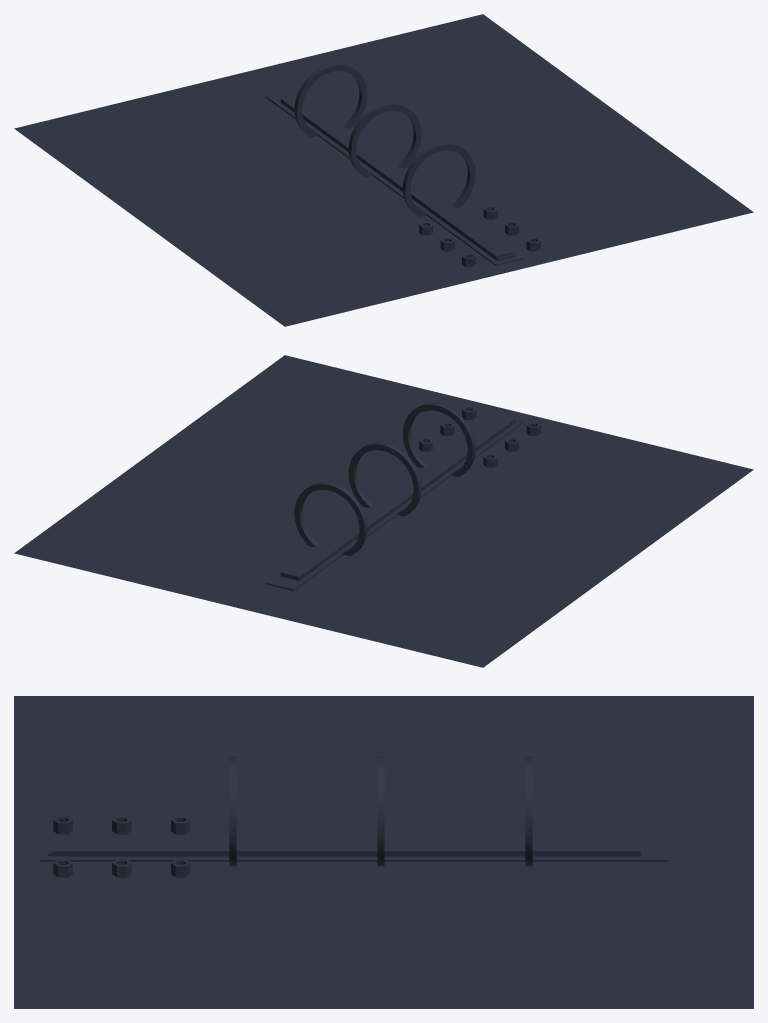
3 views of the same model, one above another, from view 1: azimuth 30°, elevation 25°; view 2: azimuth 150°, elevation 25°; view 3: azimuth 270°, elevation 25° (orthographic). The views are drawn at different scales.
Parts seen in each view (by area): view 1: floor, Plane.002, Circle, Plane.001, Circle.001; view 2: floor, Plane.002, Circle, Plane.001, Circle.001; view 3: floor, Plane.002, Plane.001, Circle, Circle.001.
Boxes of the visible parts, x1,y1,x2,y2 form: floor: (14, 14, 753, 326); Plane.002: (280, 94, 514, 260); Circle: (294, 63, 475, 216); Plane.001: (265, 89, 523, 265); Circle.001: (419, 206, 540, 266); floor: (14, 355, 753, 667); Plane.002: (280, 415, 514, 580); Circle: (294, 403, 475, 556); Plane.001: (265, 414, 523, 590); Circle.001: (419, 406, 540, 467); floor: (14, 696, 753, 1008); Plane.002: (51, 839, 640, 856); Plane.001: (39, 841, 668, 861); Circle: (229, 756, 532, 866); Circle.001: (53, 816, 190, 877).
Size of the model in its own units: 100 by 15 by 100.
